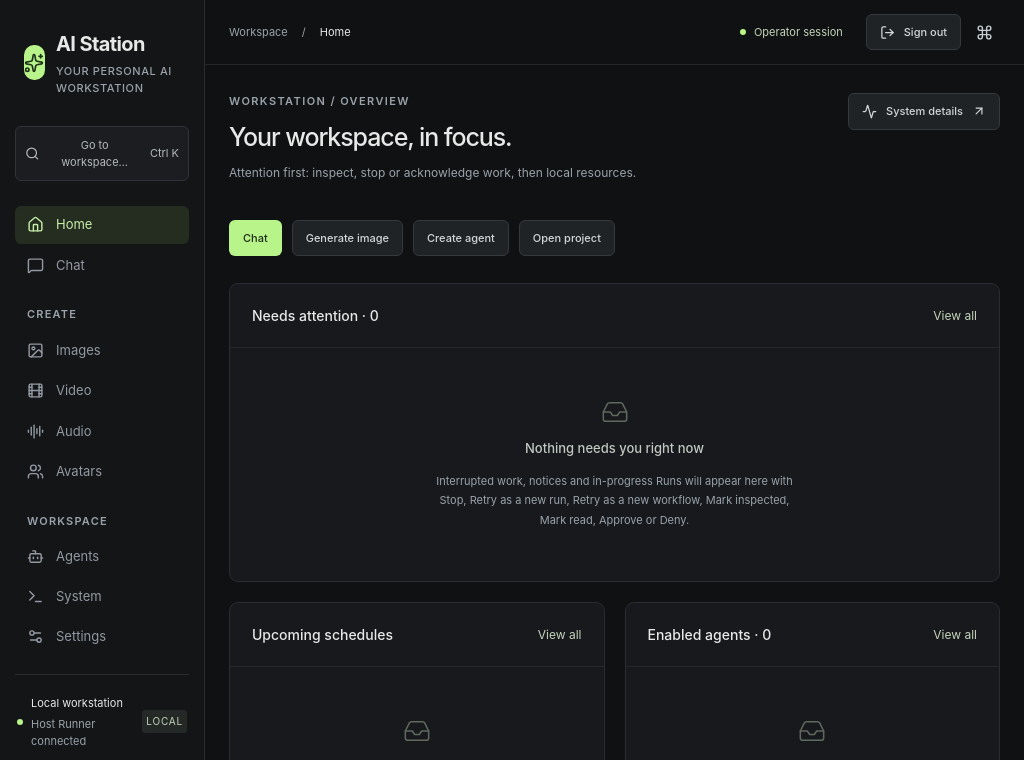
Test: signs out the loopback session from chrome without offering LAN publish
This screenshot has width=1024, height=760.
Check: the text "Operator session" is shown, box [740, 24, 843, 40]
Click the button "Sign out" at (913, 32), box [866, 14, 961, 50]
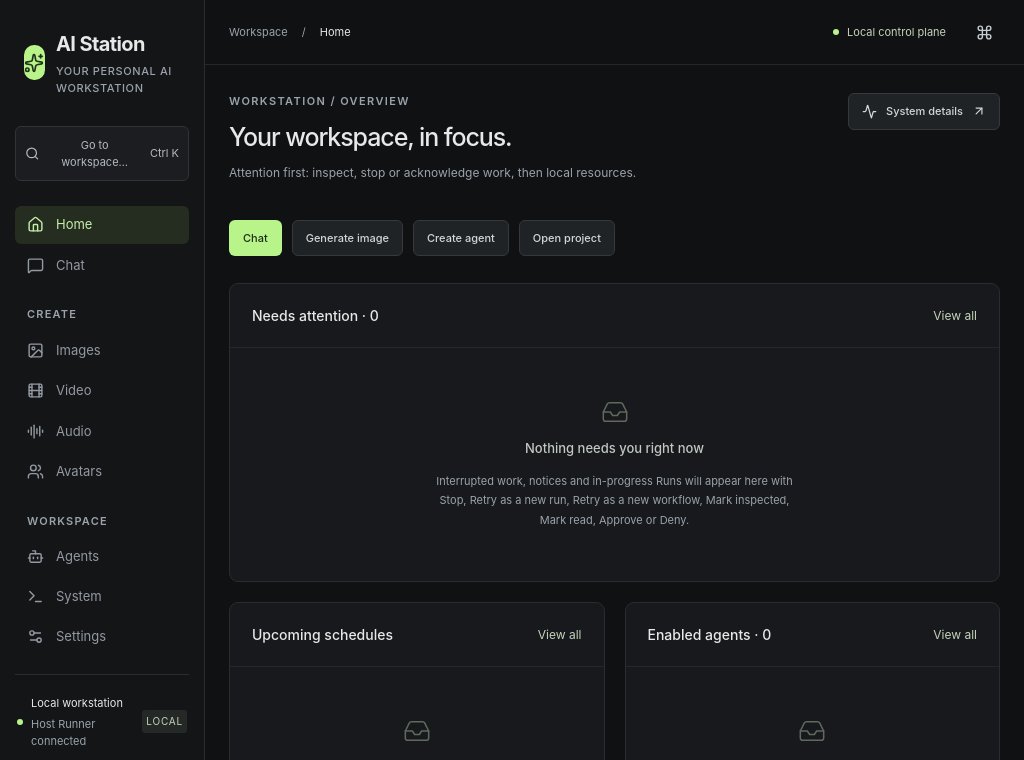
Check: the button "Sign out" is gone
